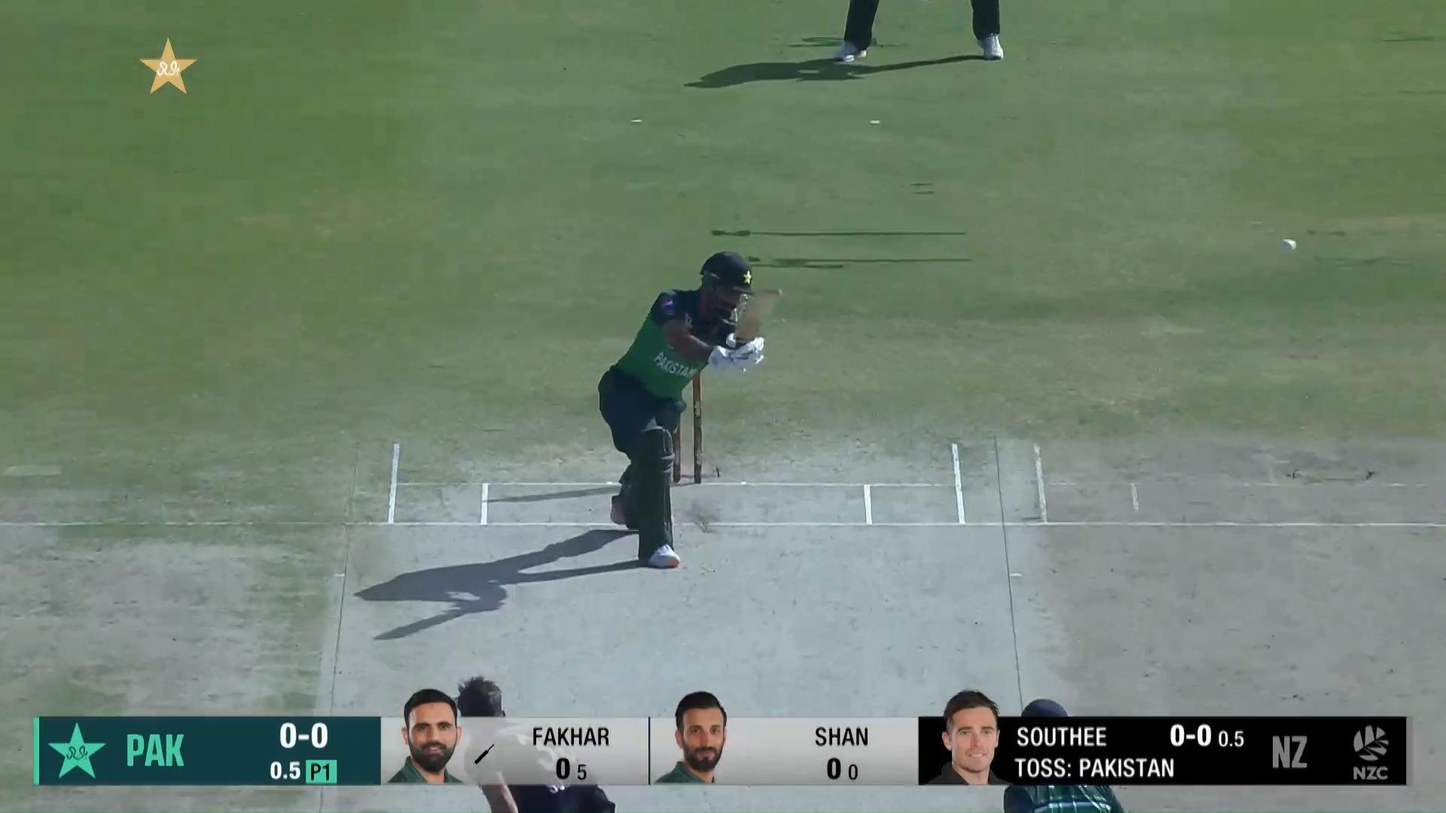BM 1: (595, 248, 787, 571)
BO: (453, 674, 616, 813)
